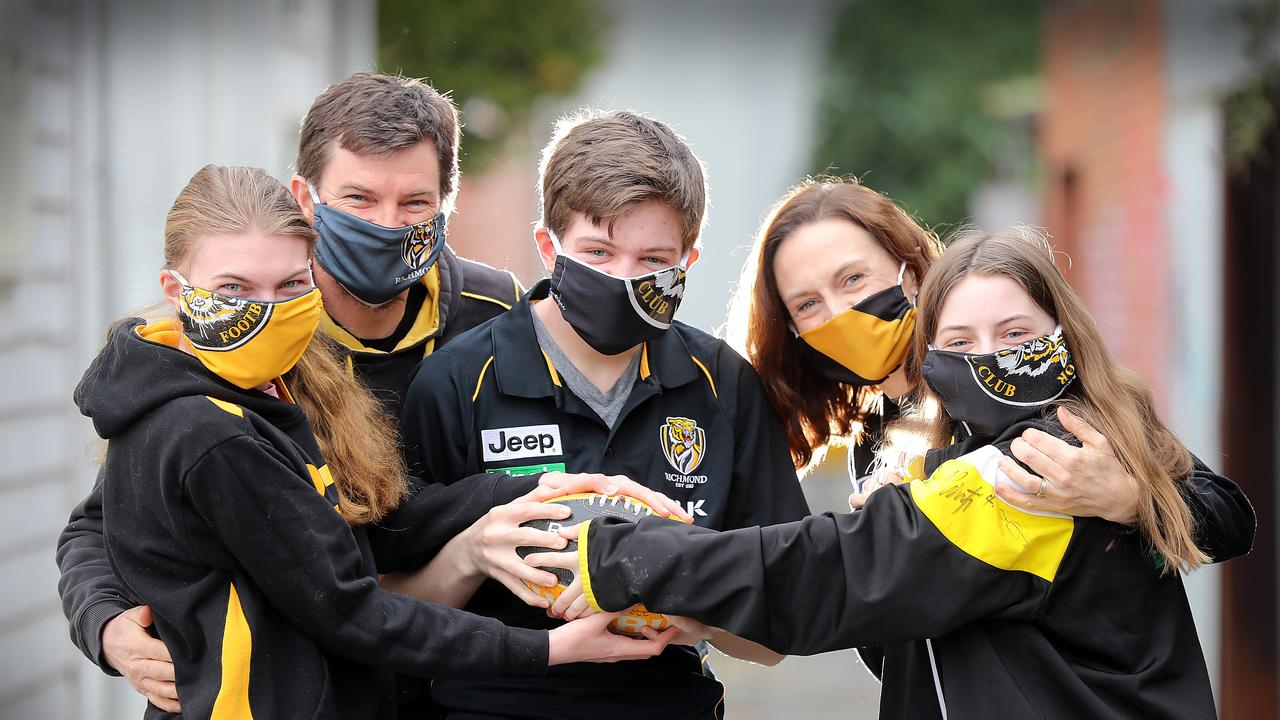with_mask: (186, 231, 314, 372), (793, 236, 908, 372), (329, 147, 436, 286), (947, 286, 1046, 412), (580, 206, 672, 330)
